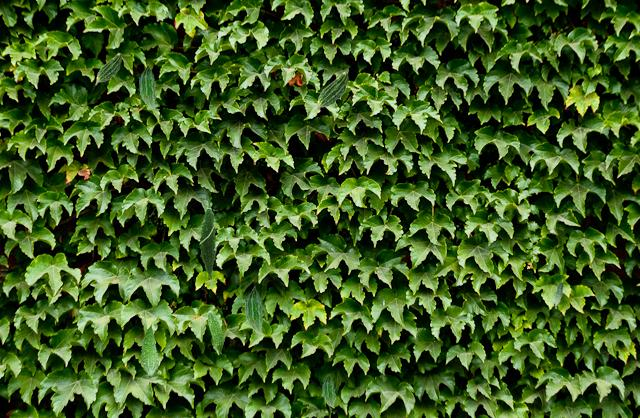ampalaya: (197, 198, 219, 279), (315, 71, 348, 111), (139, 323, 159, 378), (244, 285, 263, 334), (95, 52, 122, 85), (138, 63, 157, 109), (207, 310, 224, 354), (321, 373, 336, 408), (554, 279, 564, 309)
